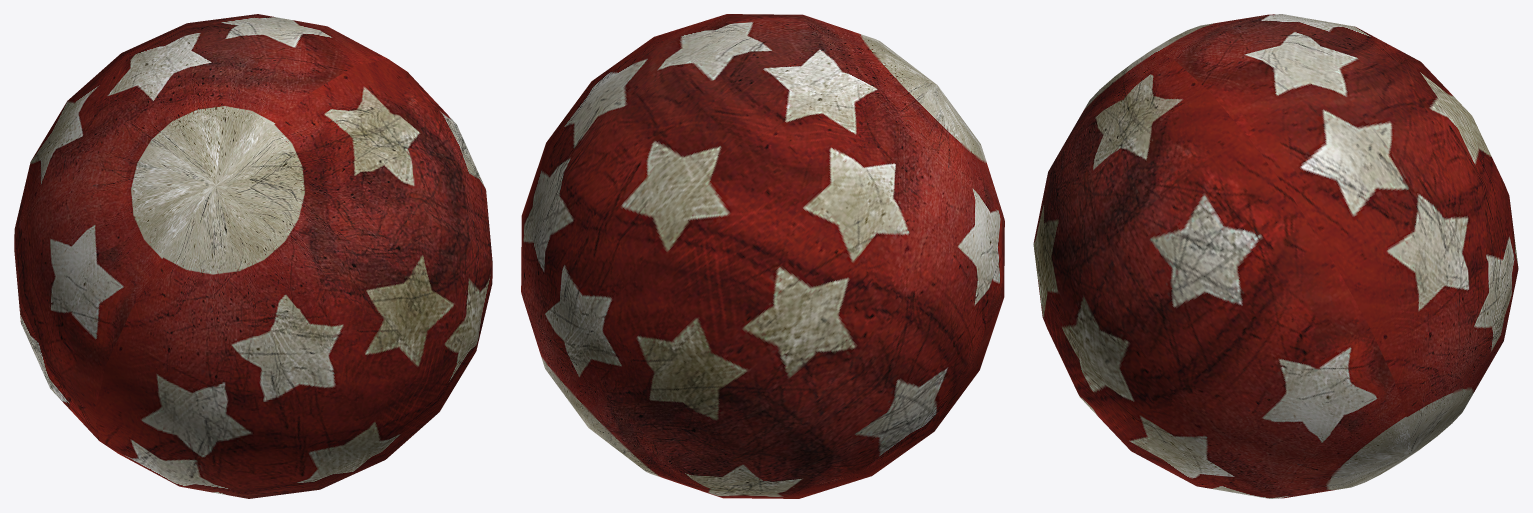
File: balon.obj
3 renders of one model, left to right at view 1: azimuth 30°, elevation 25°; view 2: azimuth 150°, elevation 25°; view 3: azimuth 270°, elevation 25°, orthographic.
Visible parts, largest first — view 1: Ball3_MESH; view 2: Ball3_MESH; view 3: Ball3_MESH.
Boxes of the visible parts, x1,y1,x2,y2 form: Ball3_MESH: [14, 14, 492, 498]; Ball3_MESH: [521, 14, 1004, 498]; Ball3_MESH: [1033, 14, 1518, 498].
Bounding box in the file's own units: 6.43 × 6.48 × 6.51.
1 material, 1 textured.
